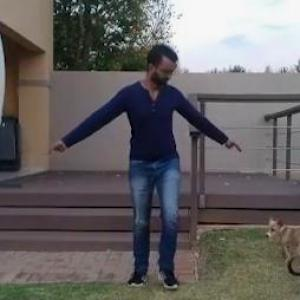land: (34, 47, 235, 291)
